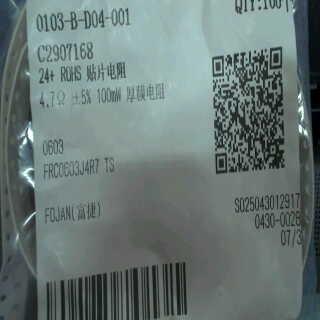4.7R: (33, 85, 67, 110)
